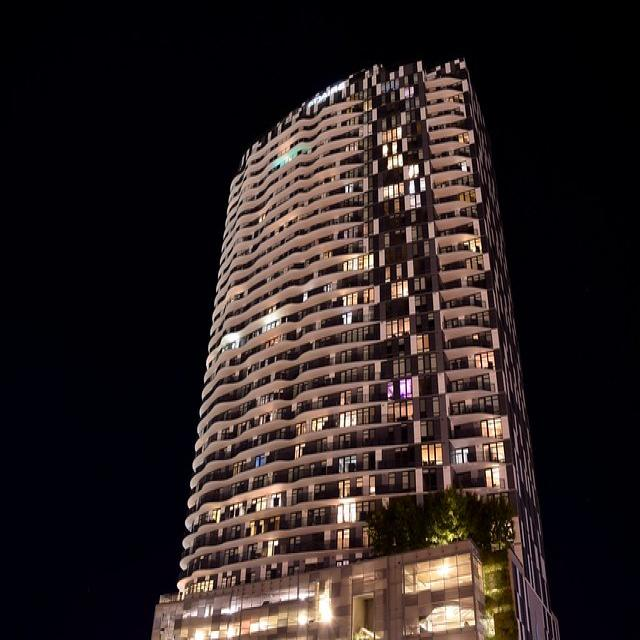building: (142, 46, 566, 640)
